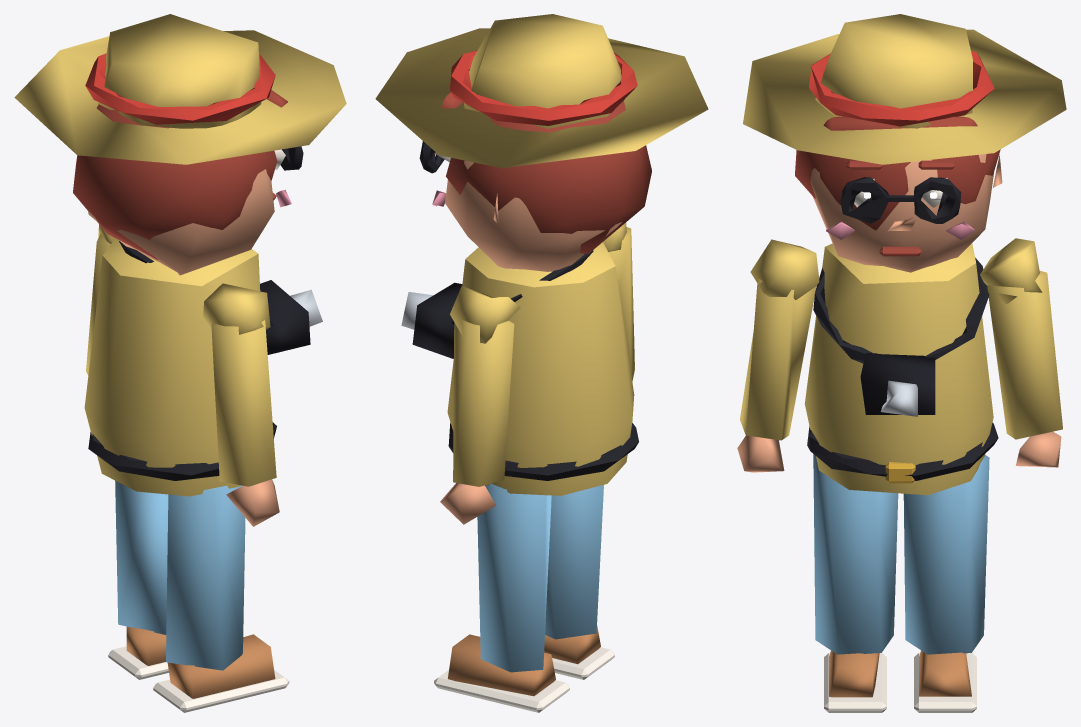
File: ped_tourist.glb
3 views of the same model, side by side, from view 1: azimuth 30°, elevation 25°; view 2: azimuth 150°, elevation 25°; view 3: azimuth 270°, elevation 25° (orthographic).
Visible parts, largest first — view 1: ped_tourist; view 2: ped_tourist; view 3: ped_tourist.
Boxes of the visible parts, x1=… form: ped_tourist: x1=14, y1=14, x2=346, y2=712; ped_tourist: x1=375, y1=14, x2=708, y2=712; ped_tourist: x1=737, y1=14, x2=1066, y2=712.
Bounding box in the file's own units: 0.5369 × 1.18 × 0.5484.
Materials: 1 (1 with a texture image).
